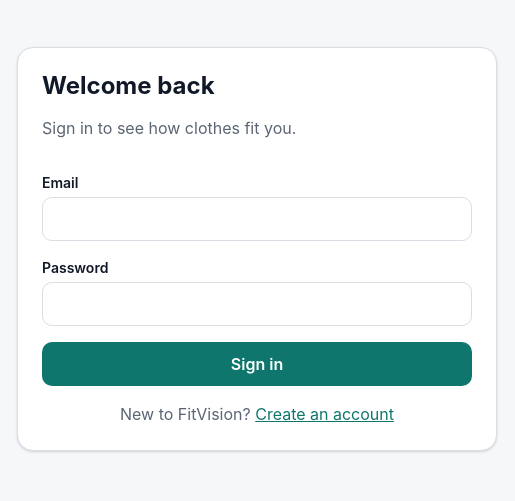
Scenario: login › shows the server error on bad credentials
The width and height of the screenshot is (515, 501).
In the field labelled "Email": (257, 219) 42,197 -> 472,241, type "ana@example.com"
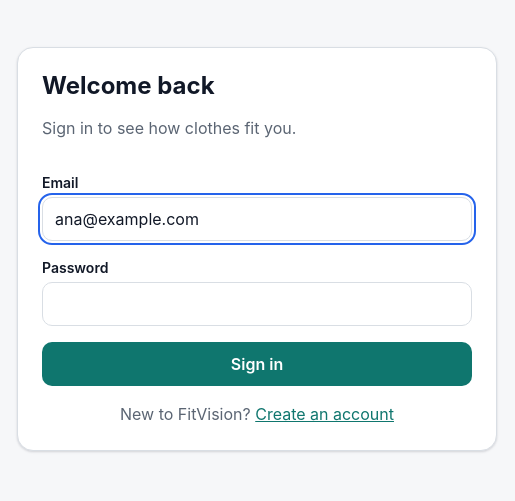
In the password field labelled "Password": (257, 304) 42,282 -> 472,326, type "wrong-password"
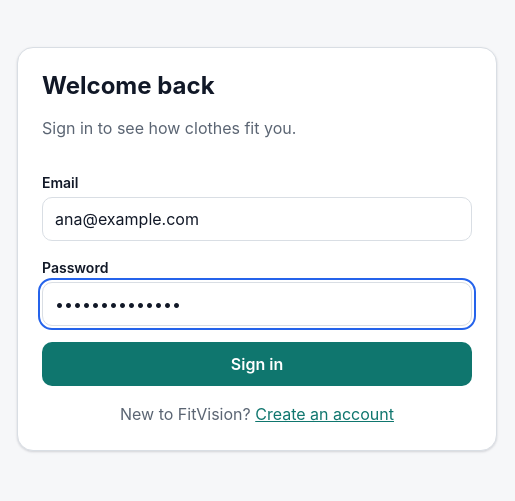
Click the button "Sign in": (257, 364) 42,342 -> 472,386
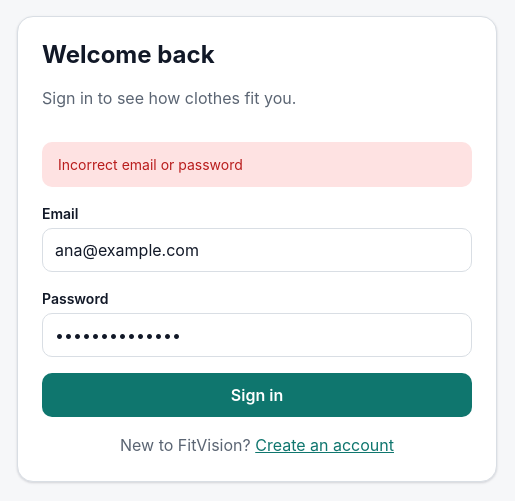
expect the message reads "Incorrect email or password": met, box 58,156 -> 243,173
